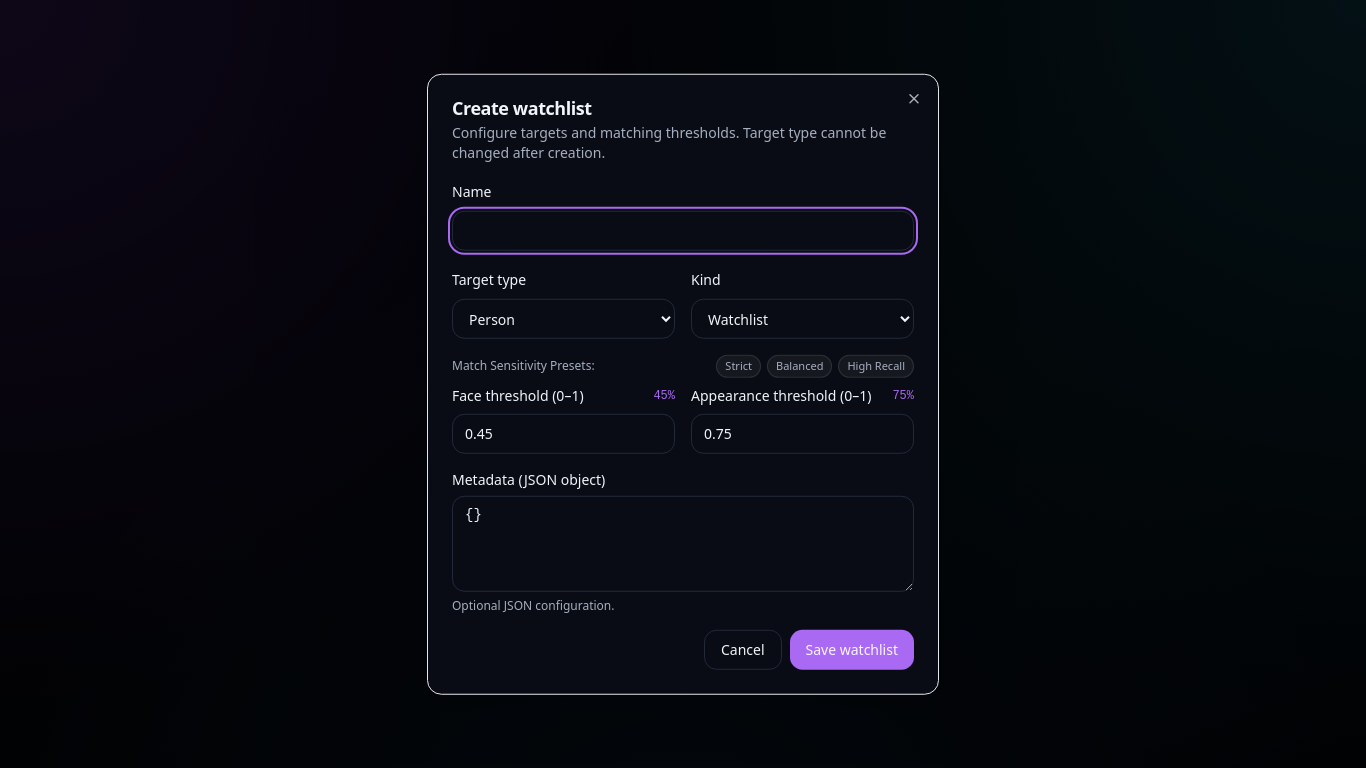
watchlist form validation › rejects invalid {} without a write
In the field labelled "Name": (683, 231) [452,211,914,251], type "Staff"
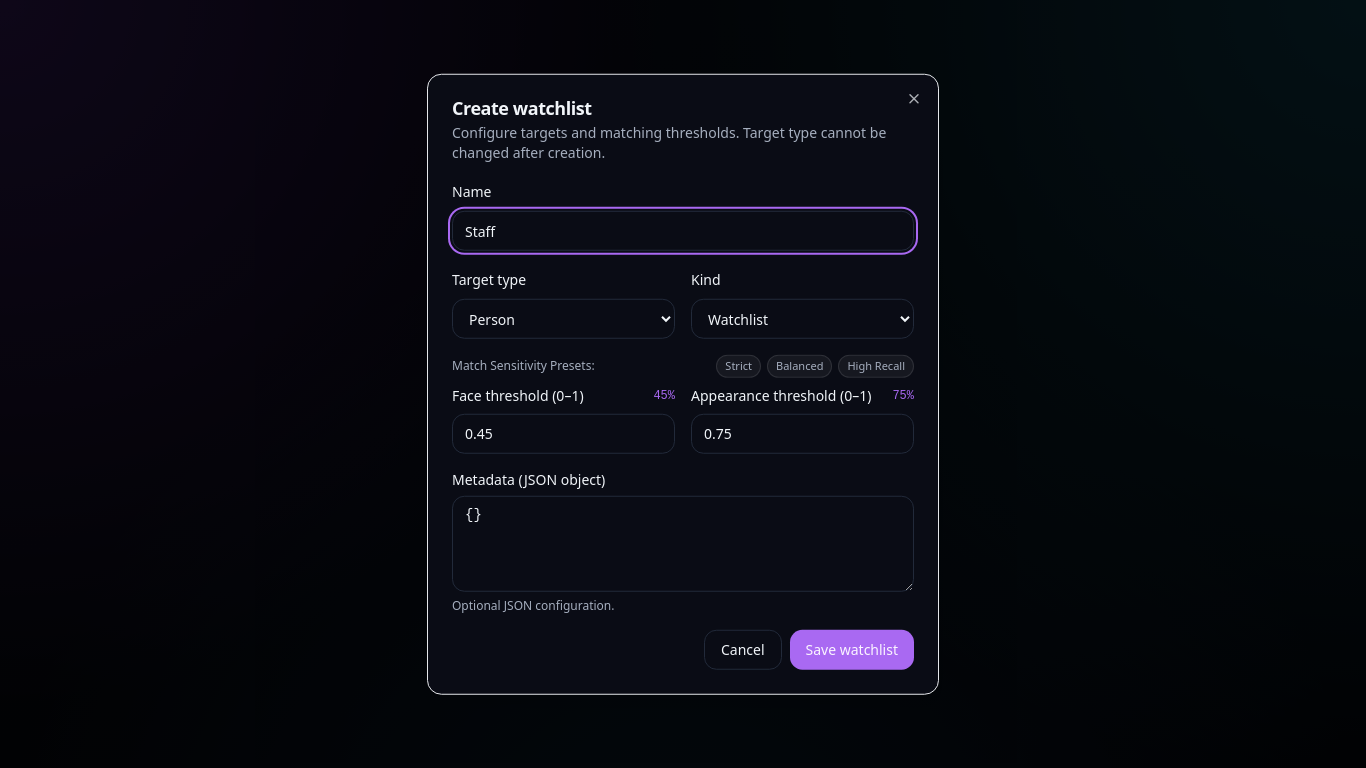
Clear the number field labelled "Face threshold (0–1)": (564, 433) [452,413,675,453]
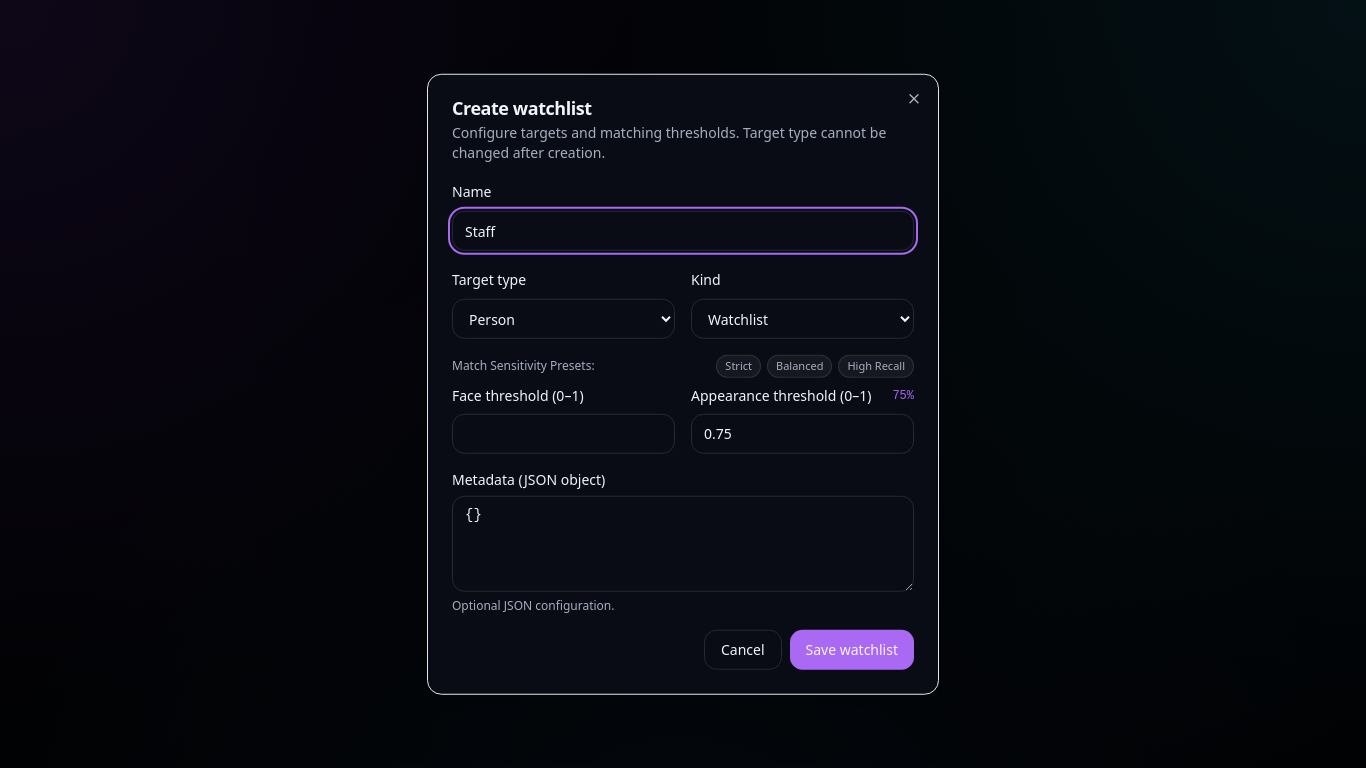
Submit the form named "Save watchlist", box [452,179,914,669]
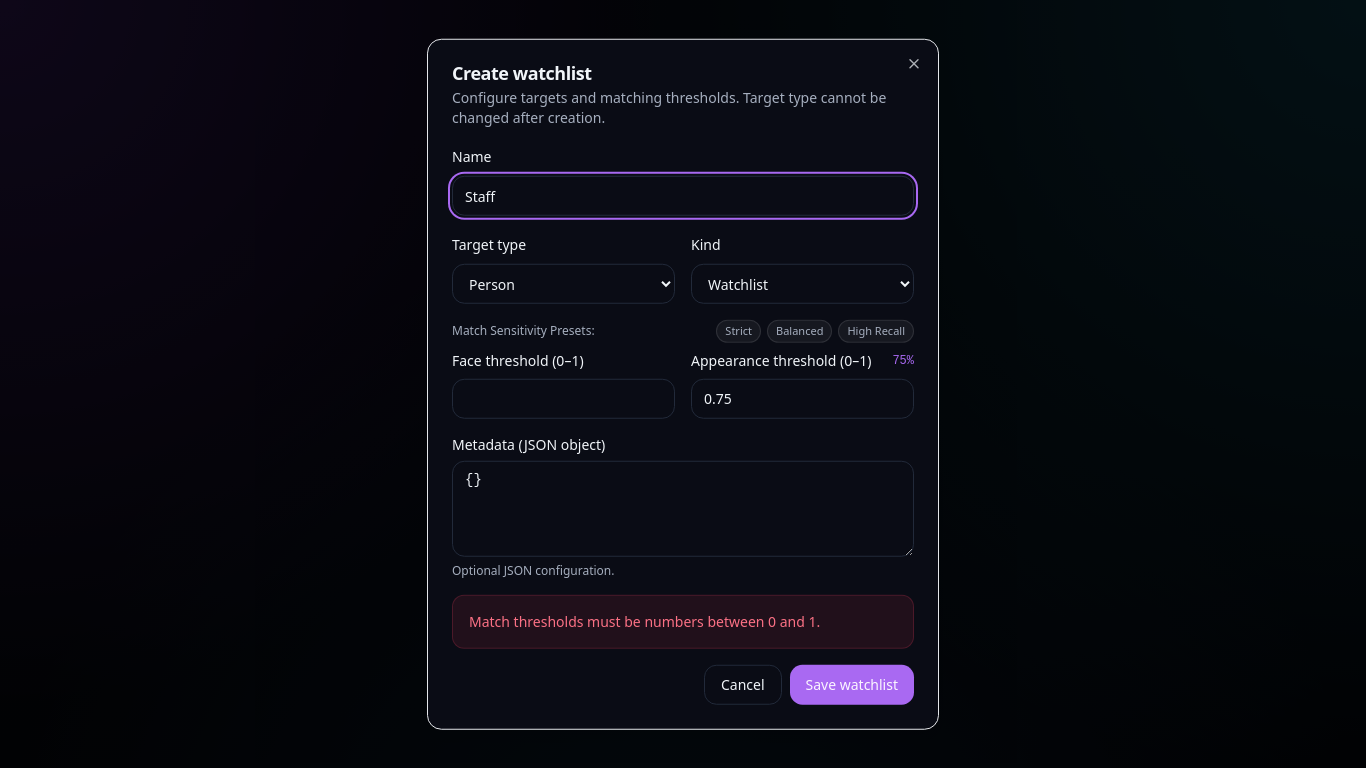
Now the message shows "between 0 and 1", box [469,611,820,630]
